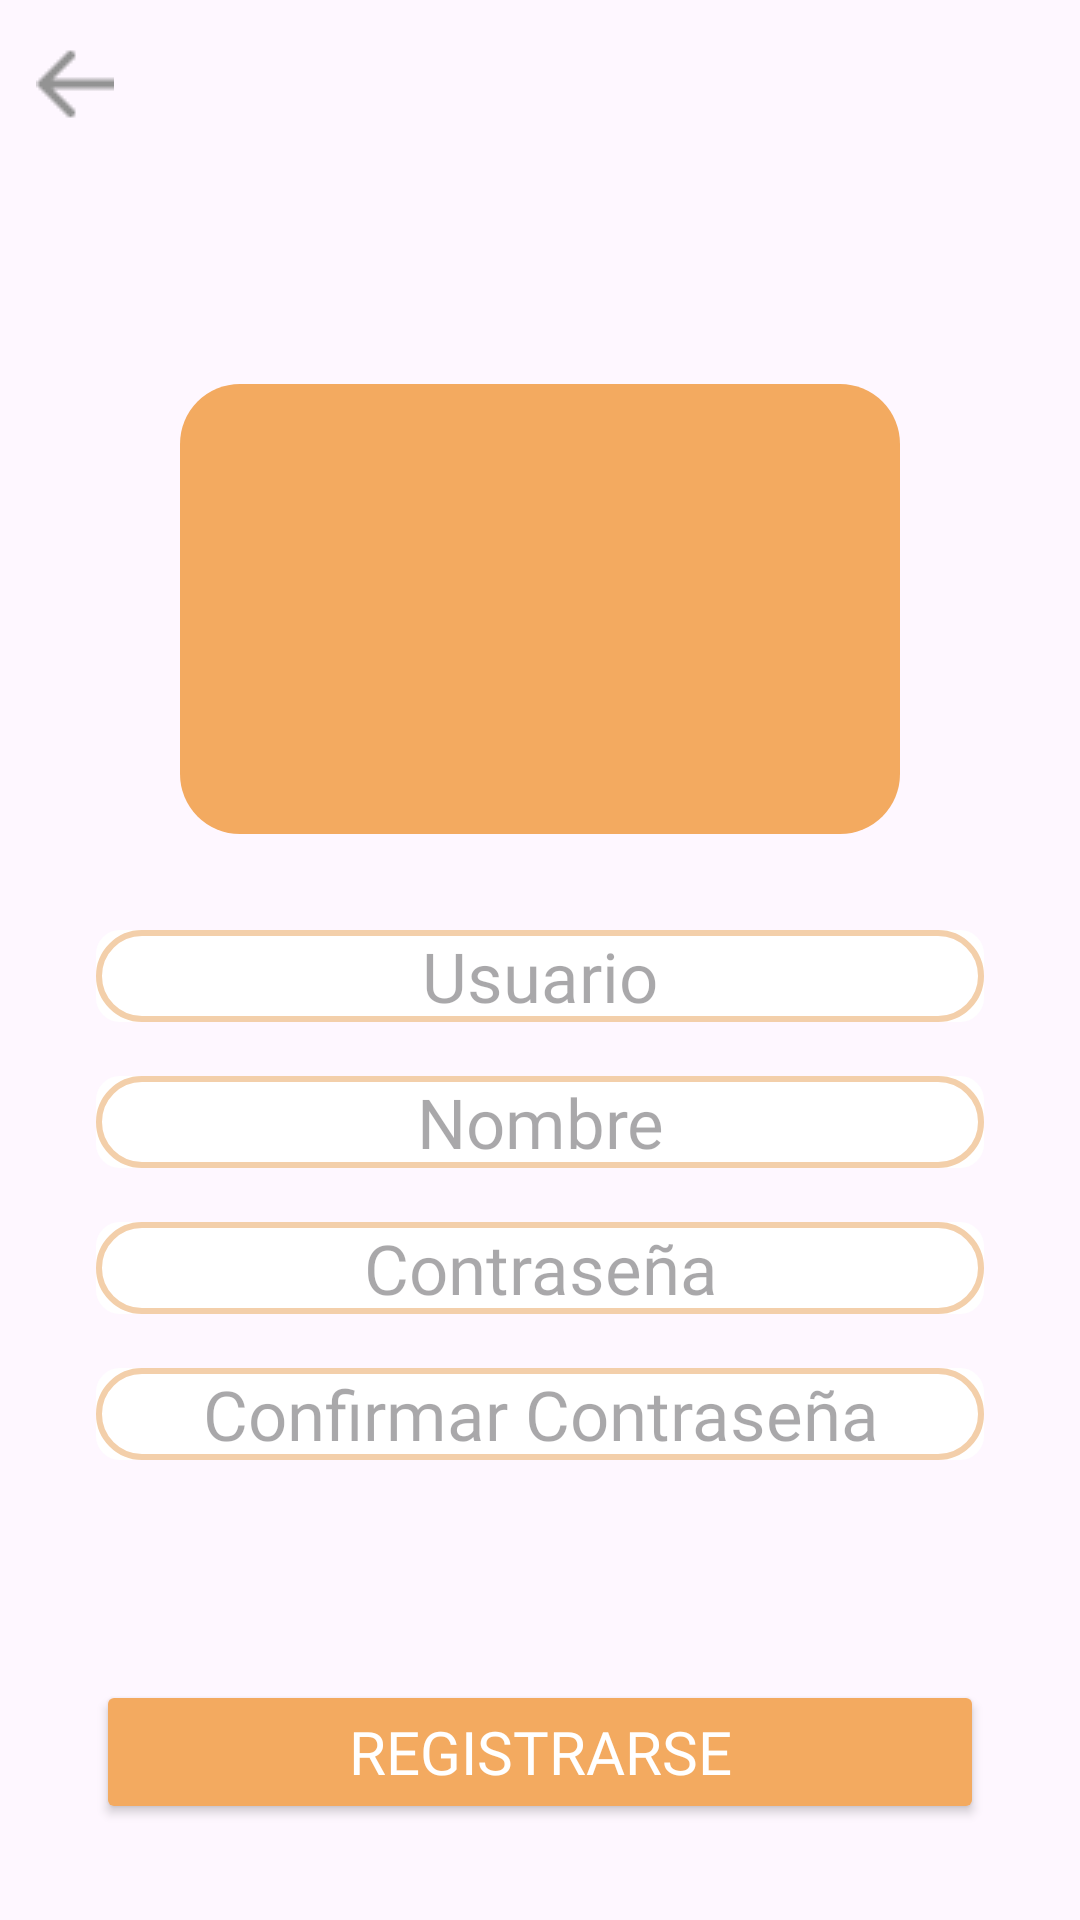

Point at icon controls on the screen. Image size 1080px×1920px, points as point (x, y).
arrow: point (75, 84)
